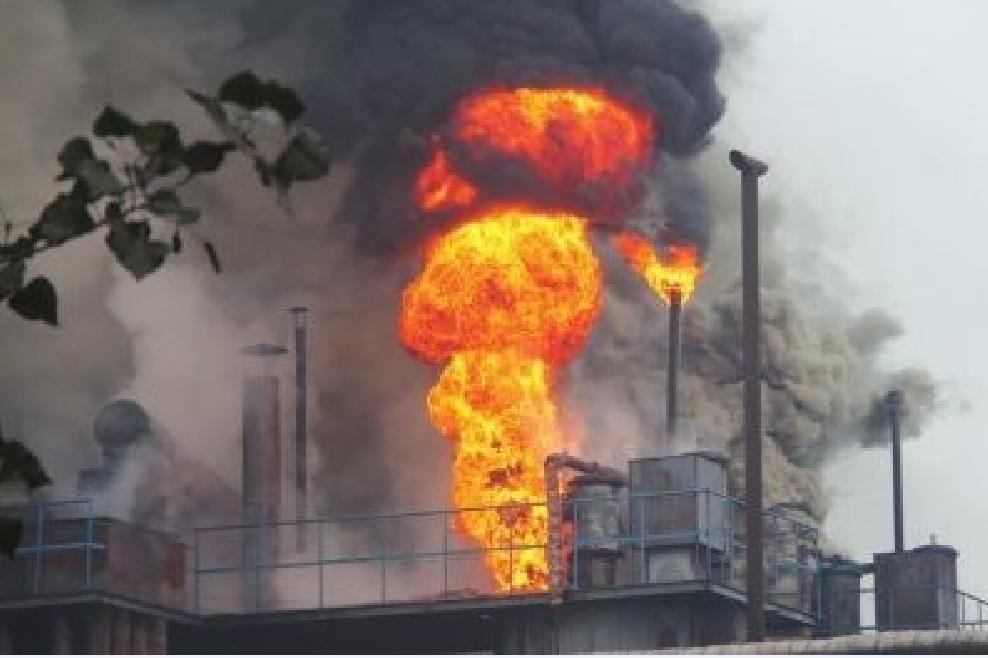fire: (398, 73, 641, 591), (624, 234, 702, 301)
